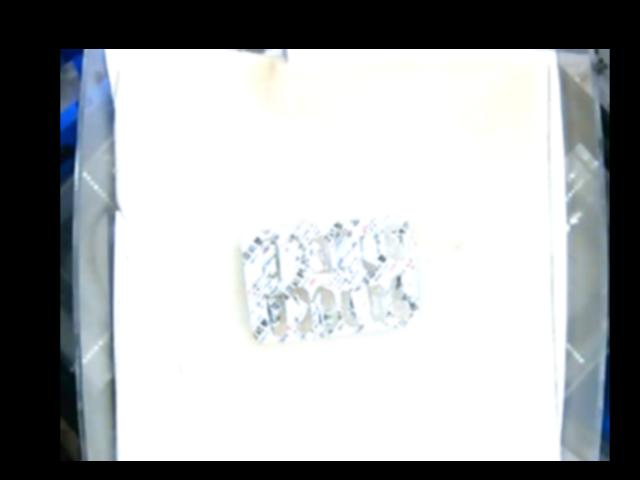Medicine: (242, 216, 419, 341)
